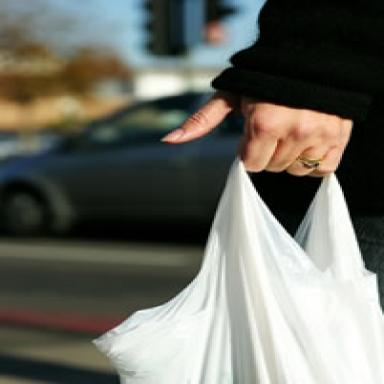plasticbag: (92, 156, 380, 382)
